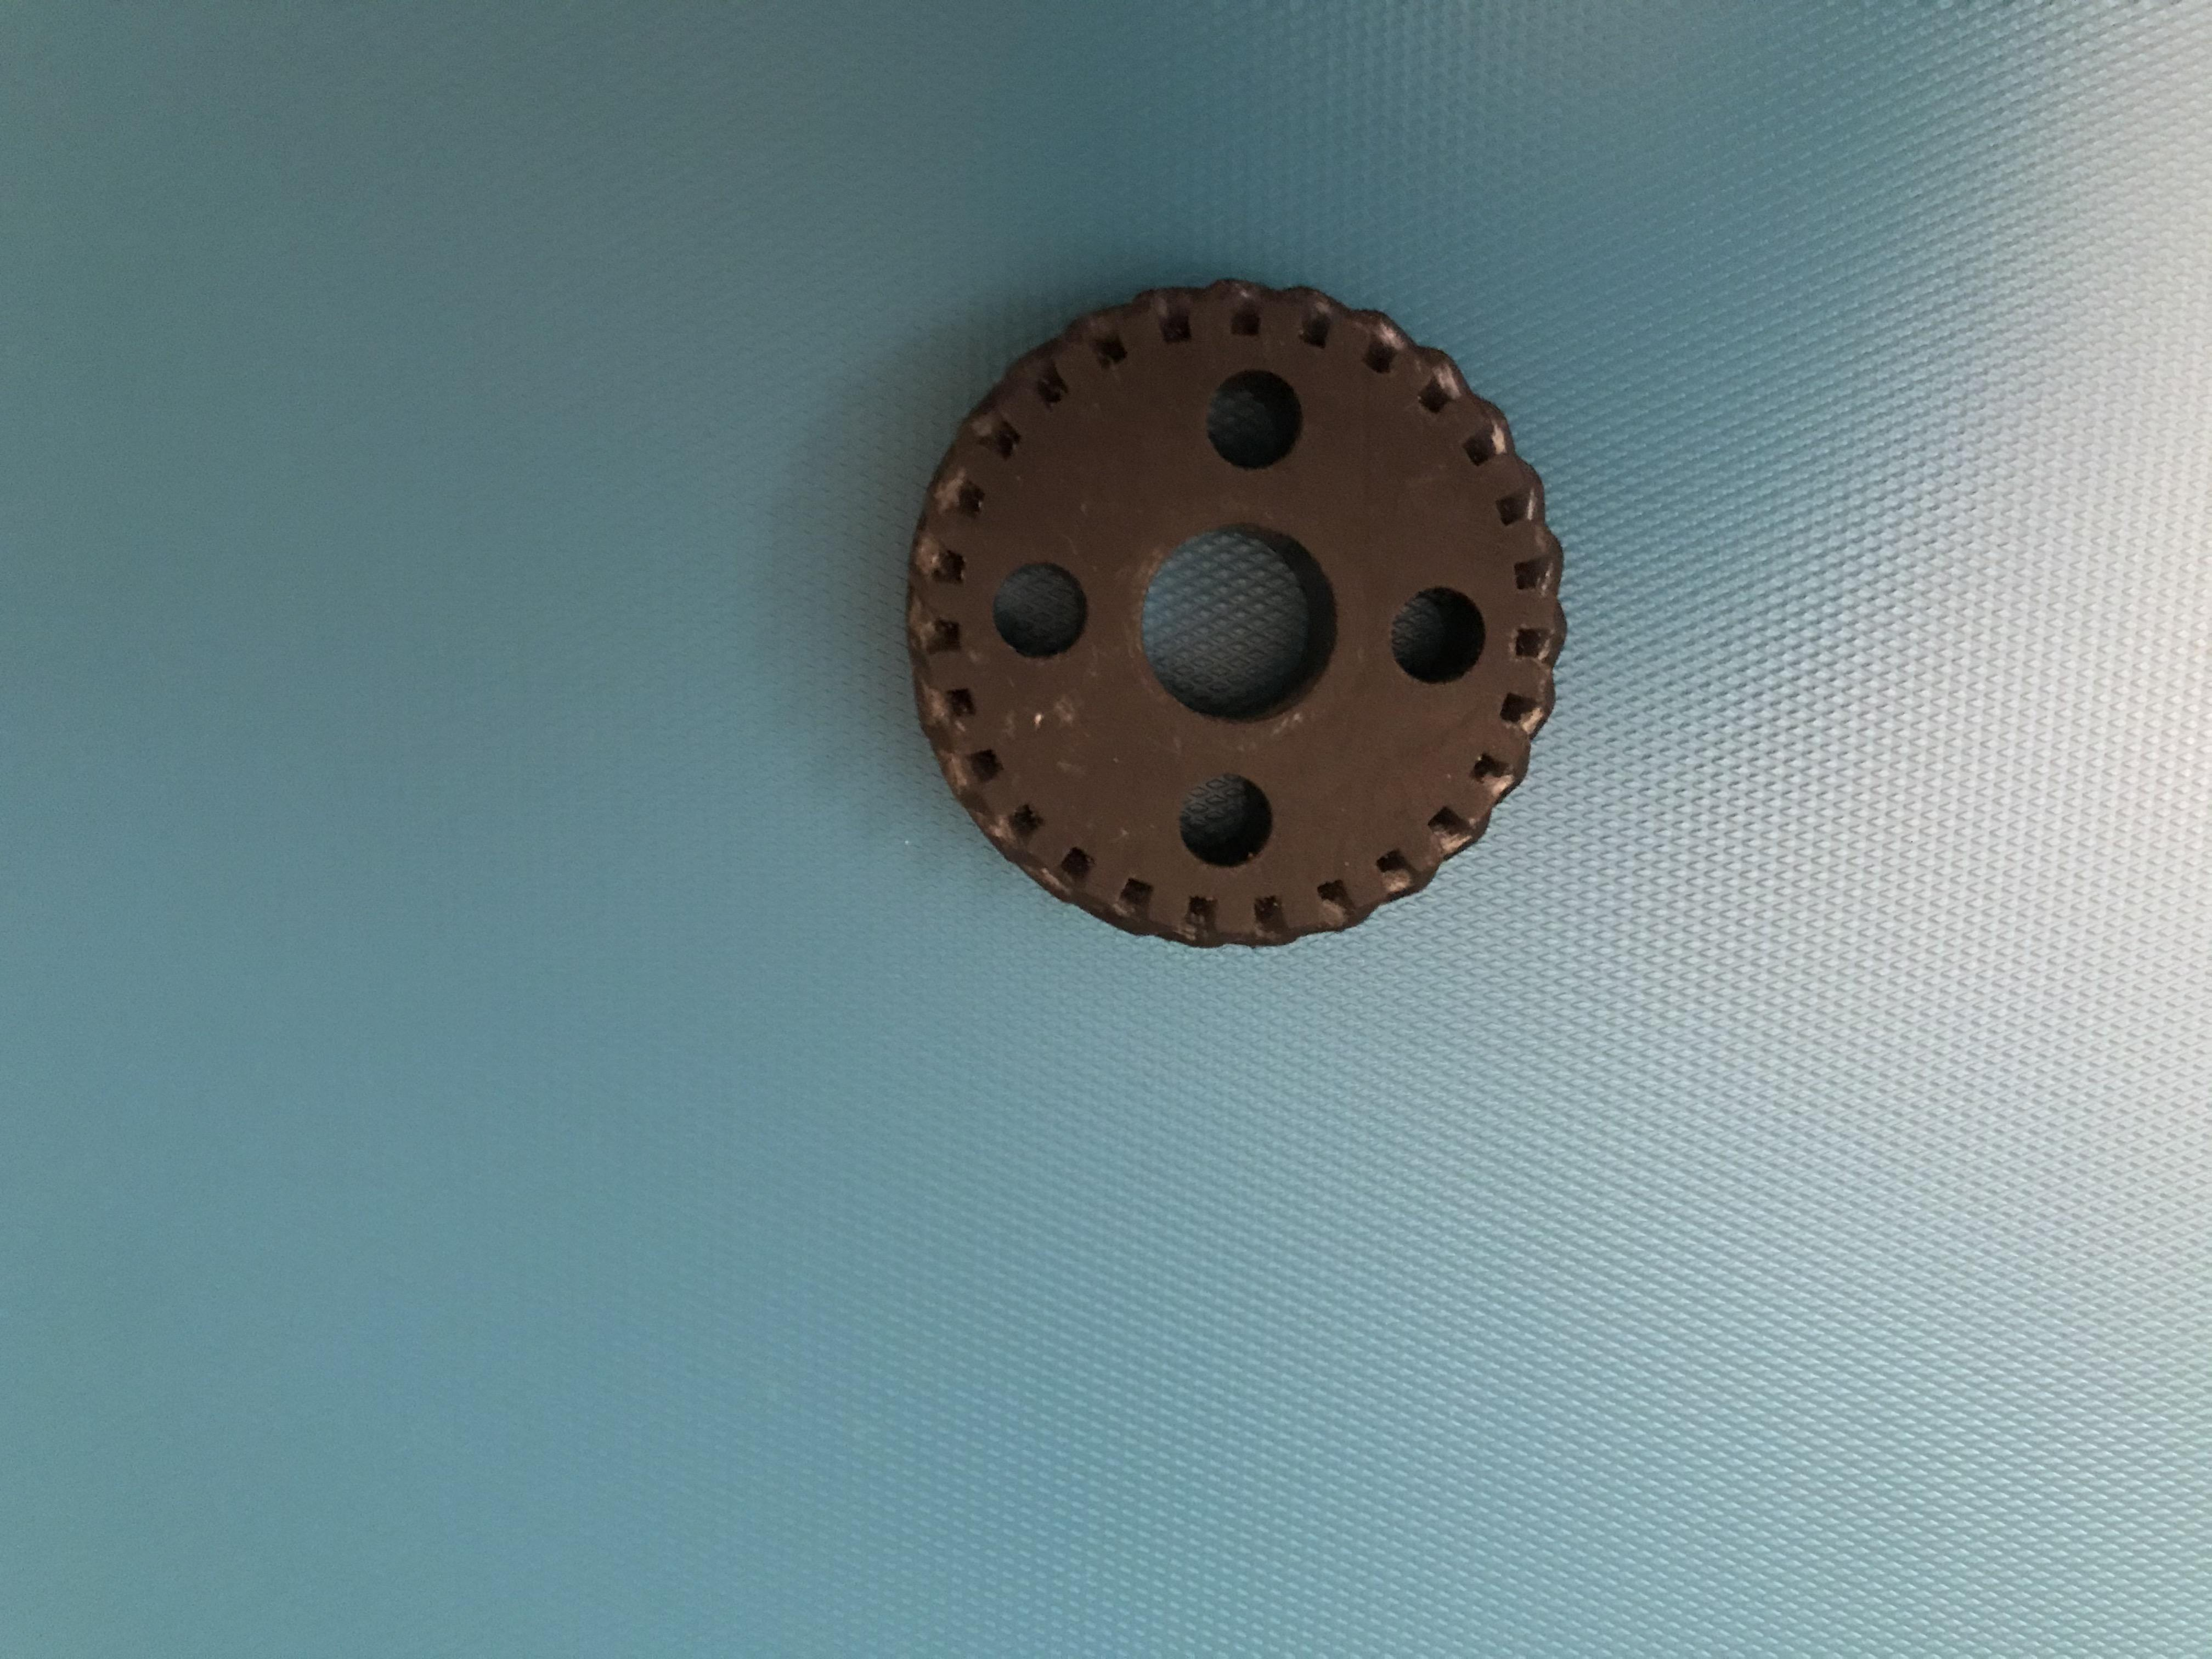Wheel: (892, 279, 1587, 962)
